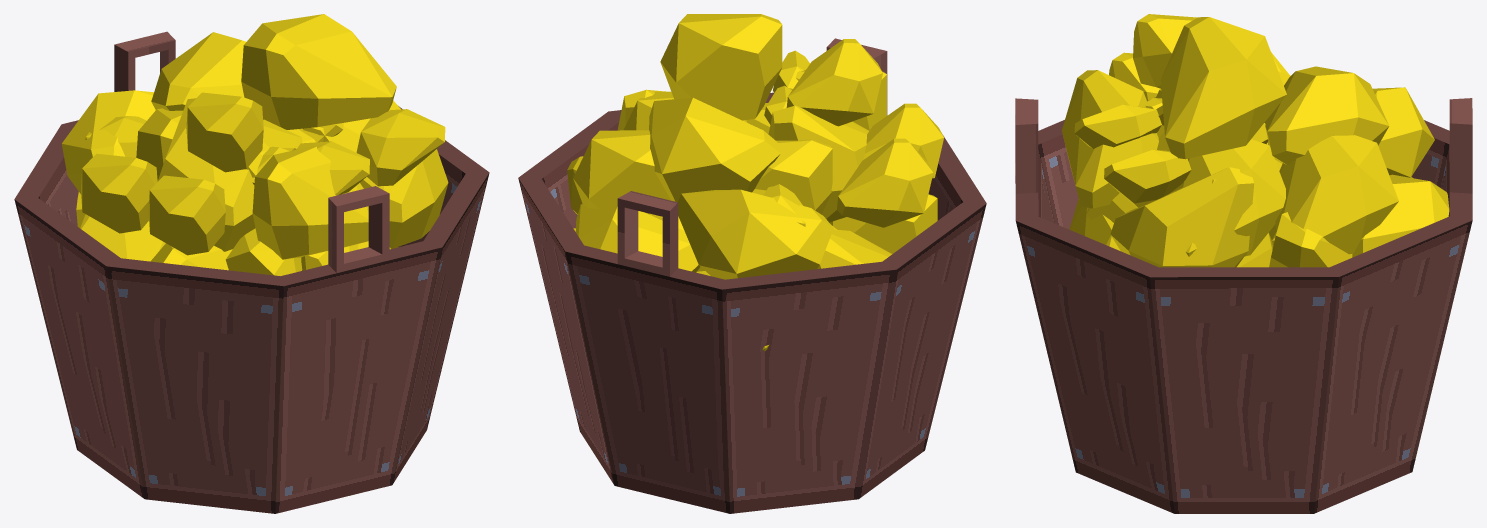
File: BaldeOuro.fbx
3 views of the same model, side by side, from view 1: azimuth 30°, elevation 25°; view 2: azimuth 150°, elevation 25°; view 3: azimuth 270°, elevation 25° (orthographic). The views are drawn at different scales.
Parts seen in each view (by area): view 1: Ouro; view 2: Ouro; view 3: Ouro.
Part boxes in pixels (left/top/right/bottom): Ouro: left=14, top=14, right=489, bottom=513; Ouro: left=518, top=14, right=986, bottom=513; Ouro: left=1015, top=14, right=1472, bottom=513.
Bounding box in the file's own units: 81.86 × 84.89 × 81.86.
Materials: 2 (1 with a texture image).
